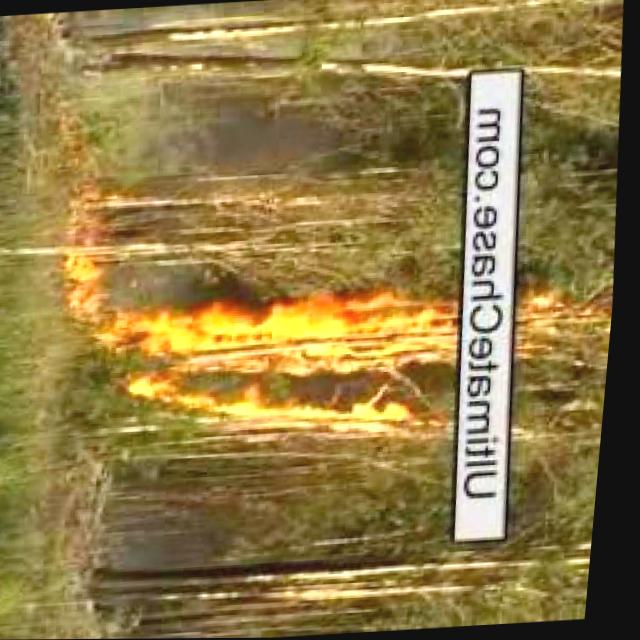Fire: (104, 257, 471, 452), (518, 284, 607, 355), (56, 226, 117, 328)
